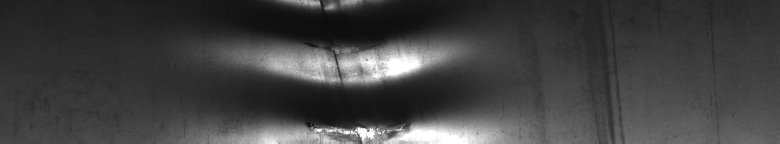ke: (210, 4, 483, 136)
